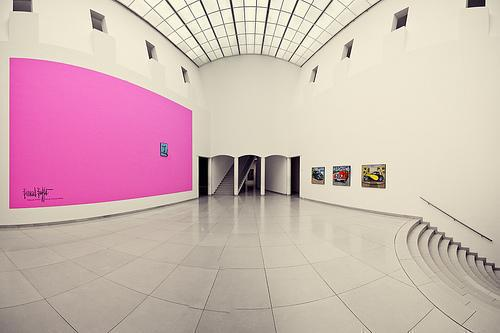Escaleras: (397, 193, 499, 324), (213, 154, 253, 194)
